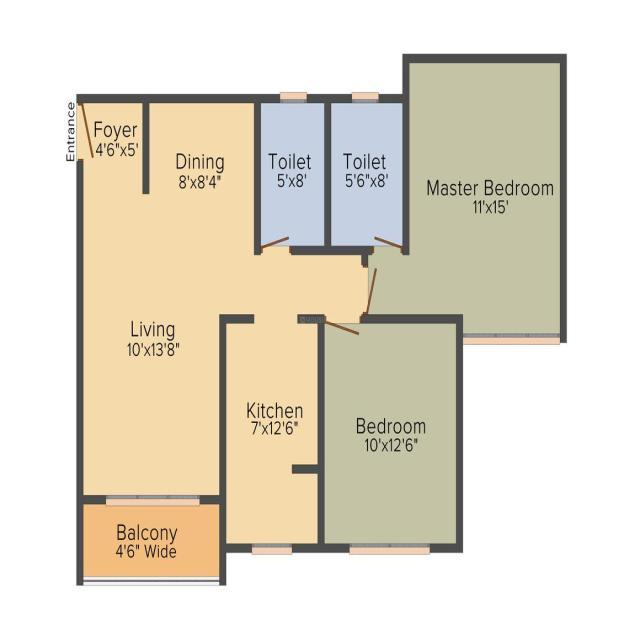Balcony-Sitout: (85, 507, 220, 581)
Bedroom: (324, 325, 456, 545)
Bedroom with Toilet: (327, 58, 563, 332)
Dining: (141, 95, 263, 254)
Enterance-Foyer: (78, 97, 145, 189)
Kitchen: (228, 323, 318, 545)
Living: (86, 315, 217, 493)
Toilet: (331, 102, 401, 247), (262, 105, 324, 247)
